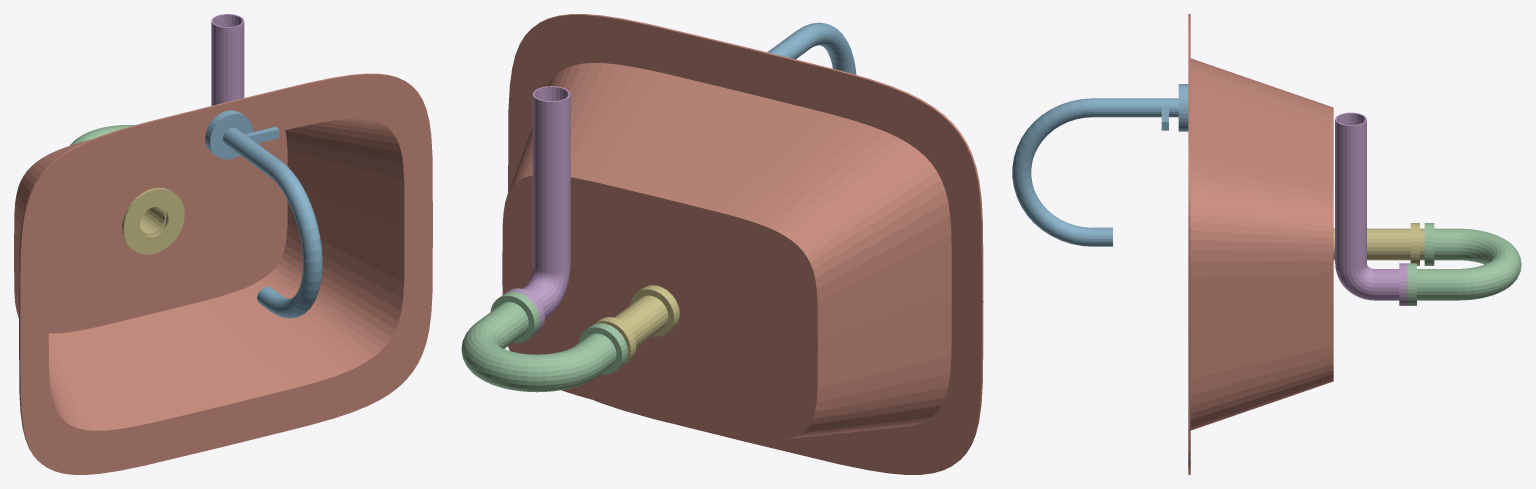
3 renders of one model, left to right at view 1: azimuth 30°, elevation 25°; view 2: azimuth 150°, elevation 25°; view 3: azimuth 270°, elevation 25°, orthographic. The views are drawn at different scales.
Visible parts, largest first — view 1: geometry_0; view 2: geometry_0; view 3: geometry_0.
Part boxes in pixels (<box>): geometry_0: <box>14,14,432,474</box>; geometry_0: <box>461,14,983,474</box>; geometry_0: <box>1012,14,1521,474</box>.
Size of the model in its own units: 580 by 460 by 642.
